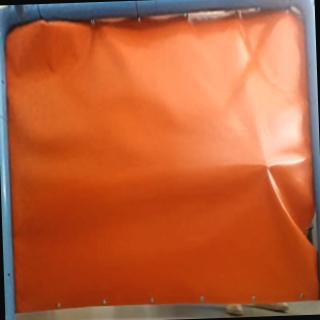Hit-hRxx: (260, 160, 275, 173)
